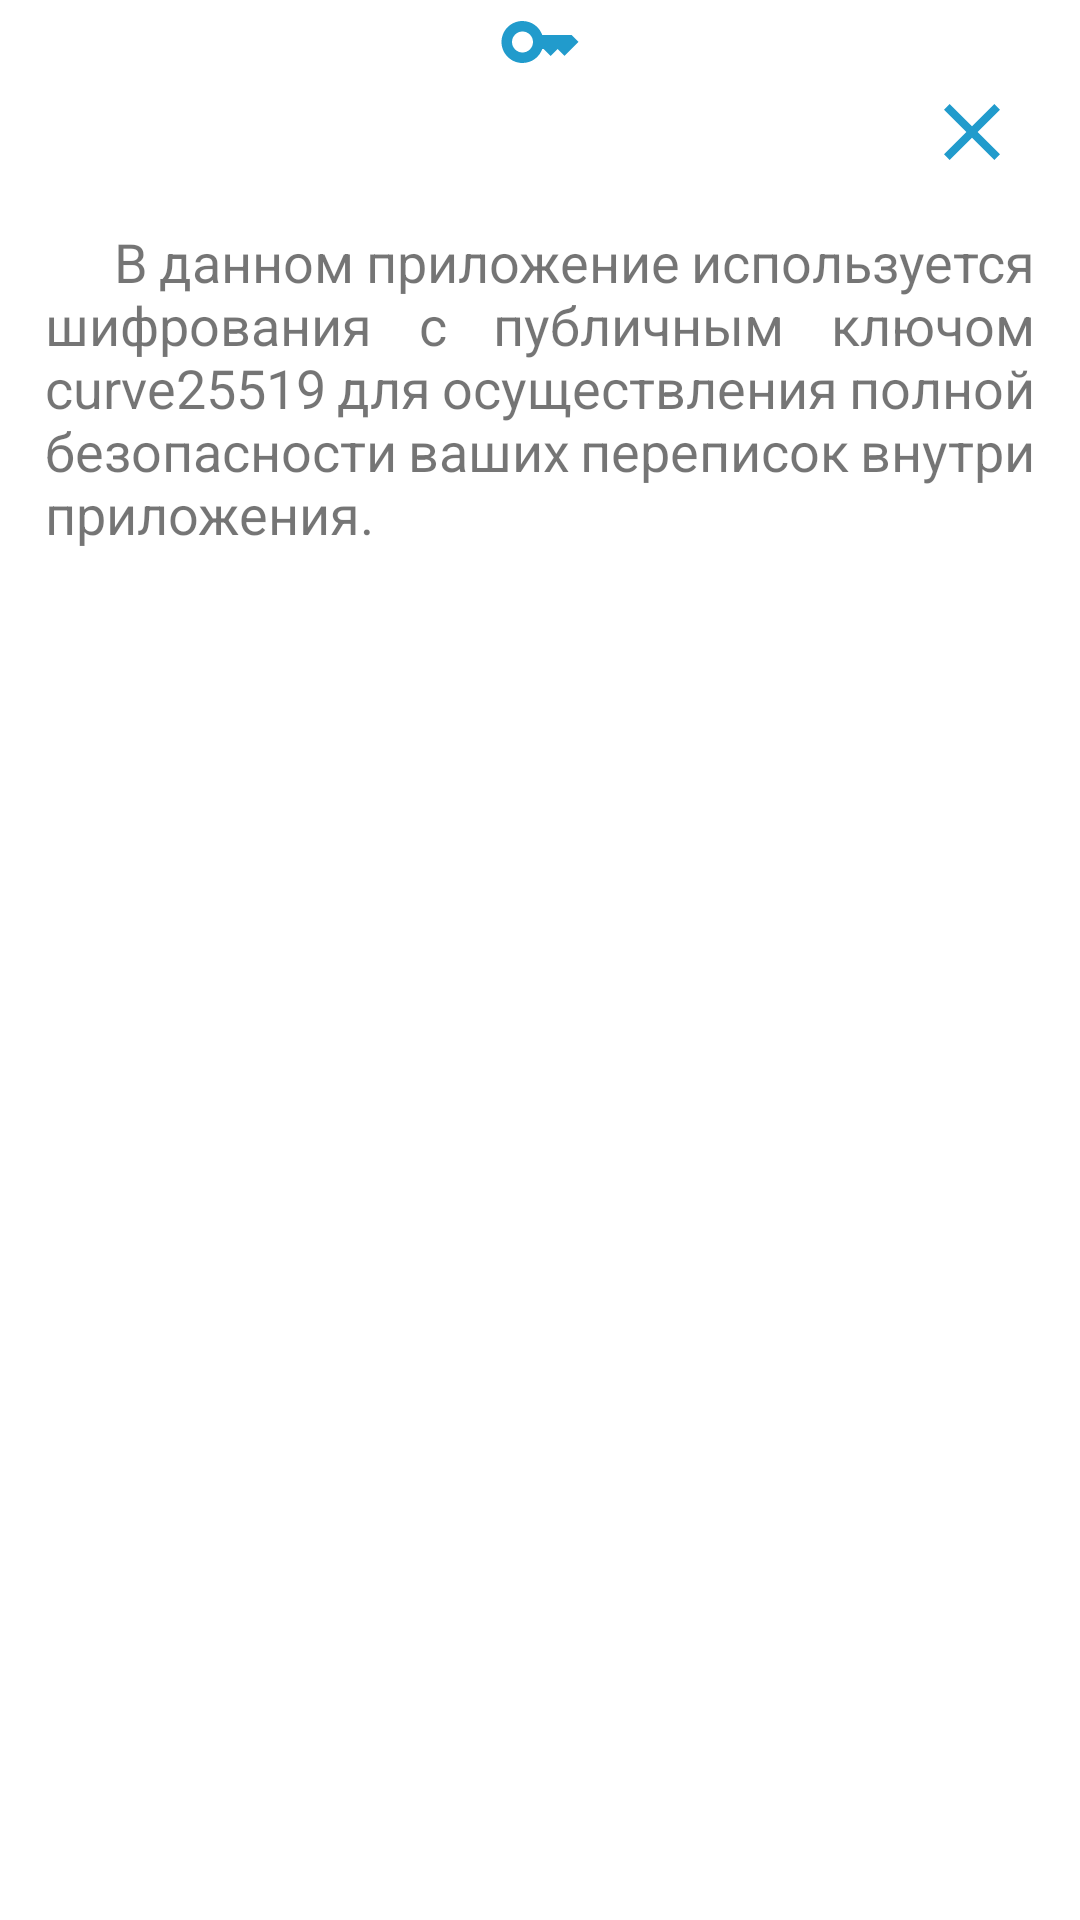

Screen size 1080*1920. Icon name, then its box in pixels as (x1, y1, x2, y2):
close: (944, 104, 1000, 160)
key: (501, 21, 579, 63)
